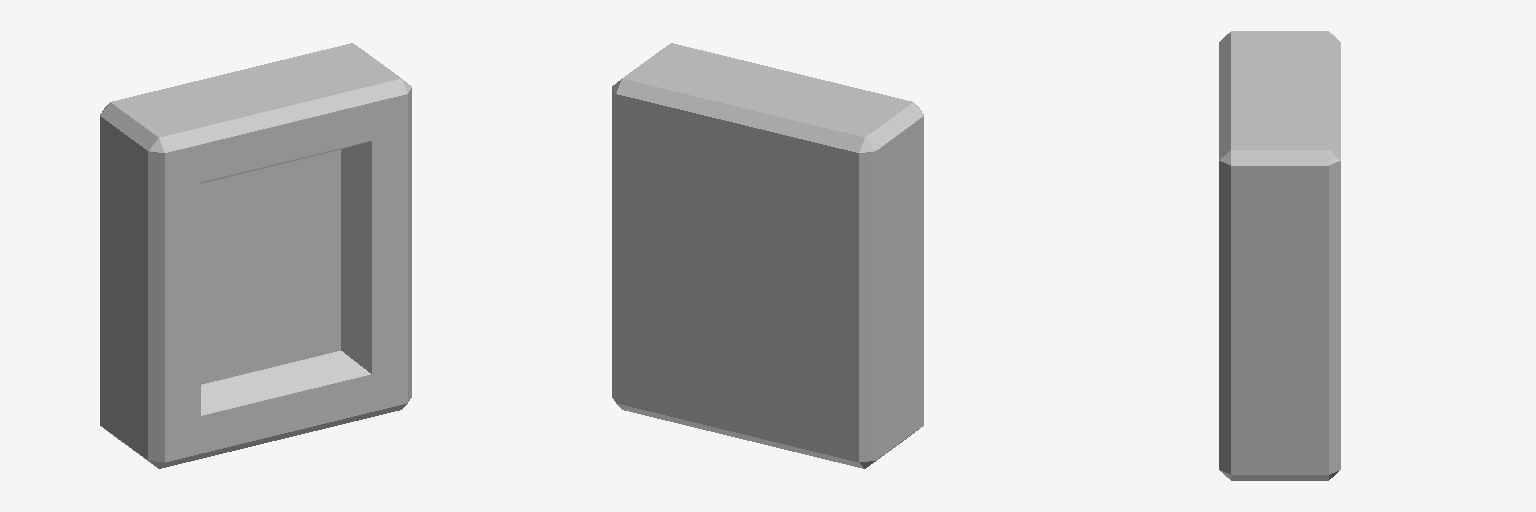
The model's file is pictureframe_small_A.obj.
3 views of the same model, side by side, from view 1: azimuth 30°, elevation 25°; view 2: azimuth 150°, elevation 25°; view 3: azimuth 270°, elevation 25° (orthographic).
Parts seen in each view (by area): view 1: pictureframe_small_A_Cube.014; view 2: pictureframe_small_A_Cube.014; view 3: pictureframe_small_A_Cube.014.
Boxes of the visible parts, <box> form: pictureframe_small_A_Cube.014: <box>100,43,411,468</box>; pictureframe_small_A_Cube.014: <box>612,43,923,468</box>; pictureframe_small_A_Cube.014: <box>1219,31,1340,480</box>.
Bounding box in the file's own units: 0.5 × 0.6 × 0.2.